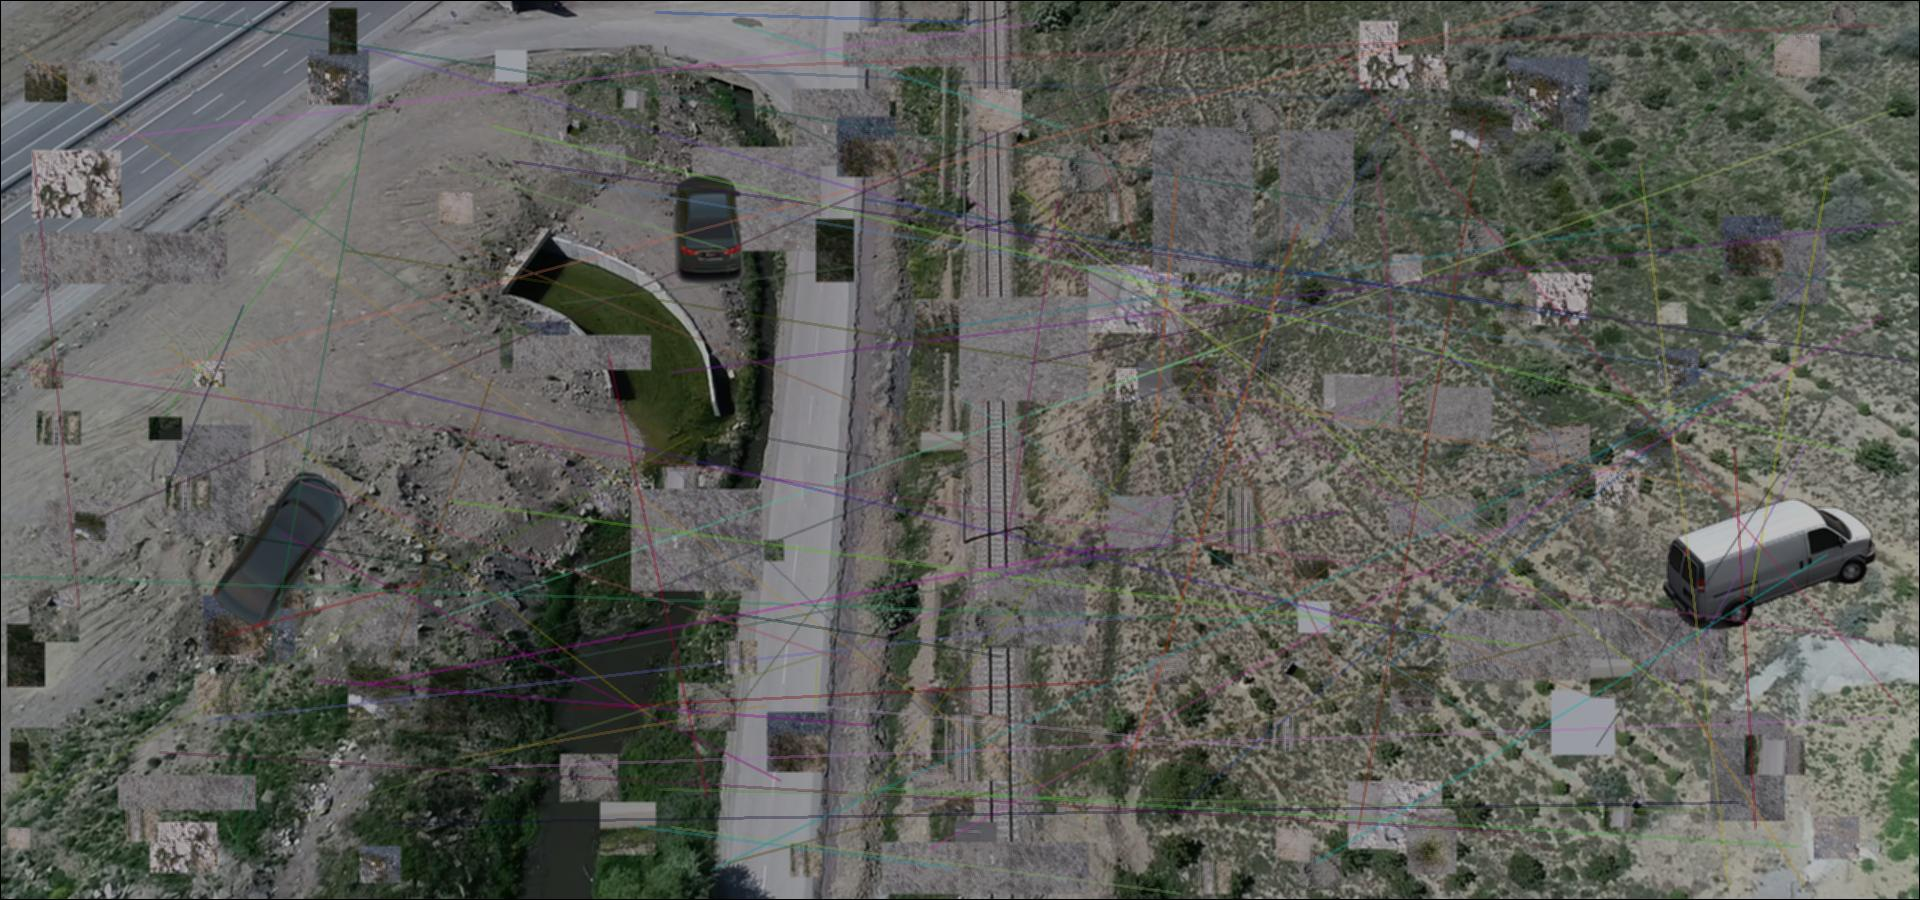arac: (1663, 493, 1875, 629), (200, 469, 351, 629), (669, 174, 747, 287)
